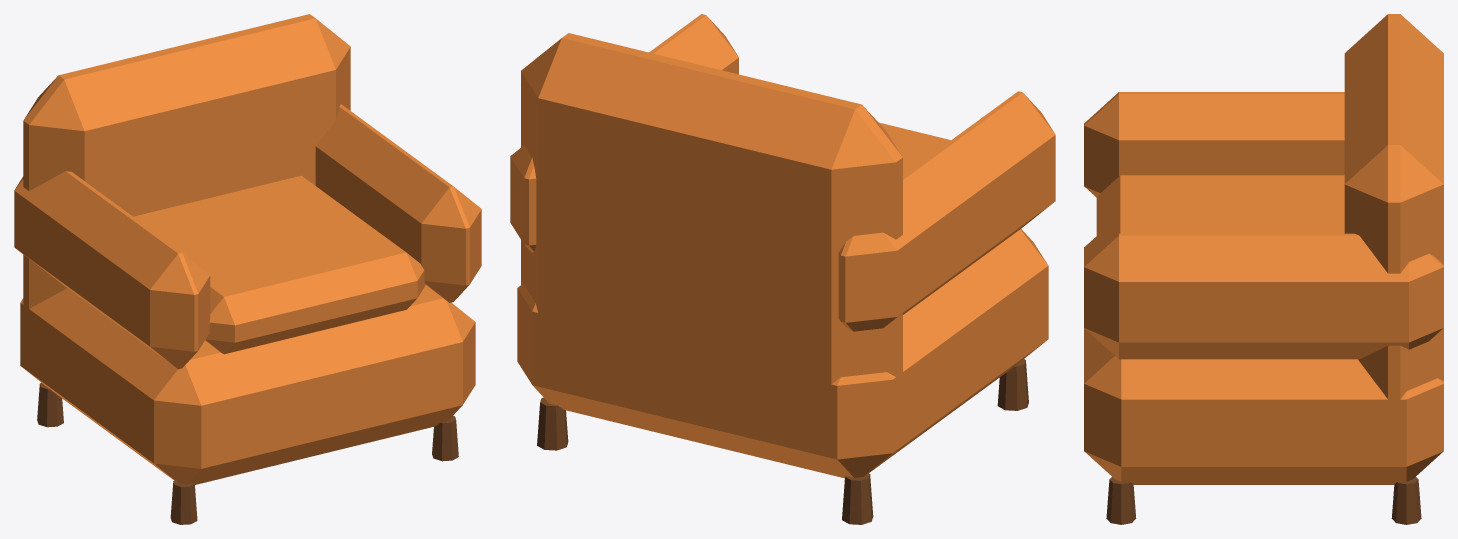
File: OrangeArmchair.fbx
3 renders of one model, left to right at view 1: azimuth 30°, elevation 25°; view 2: azimuth 150°, elevation 25°; view 3: azimuth 270°, elevation 25°, orthographic. The views are drawn at different scales.
Parts seen in each view (by area): view 1: OrangeArmchair; view 2: OrangeArmchair; view 3: OrangeArmchair.
Boxes of the visible parts, x1=… form: OrangeArmchair: x1=14, y1=14, x2=481, y2=524; OrangeArmchair: x1=510, y1=14, x2=1055, y2=524; OrangeArmchair: x1=1084, y1=14, x2=1443, y2=524.
Bounding box in the file's own units: 3.3 × 3.3 × 2.9.
Materials: 1 (1 with a texture image).
